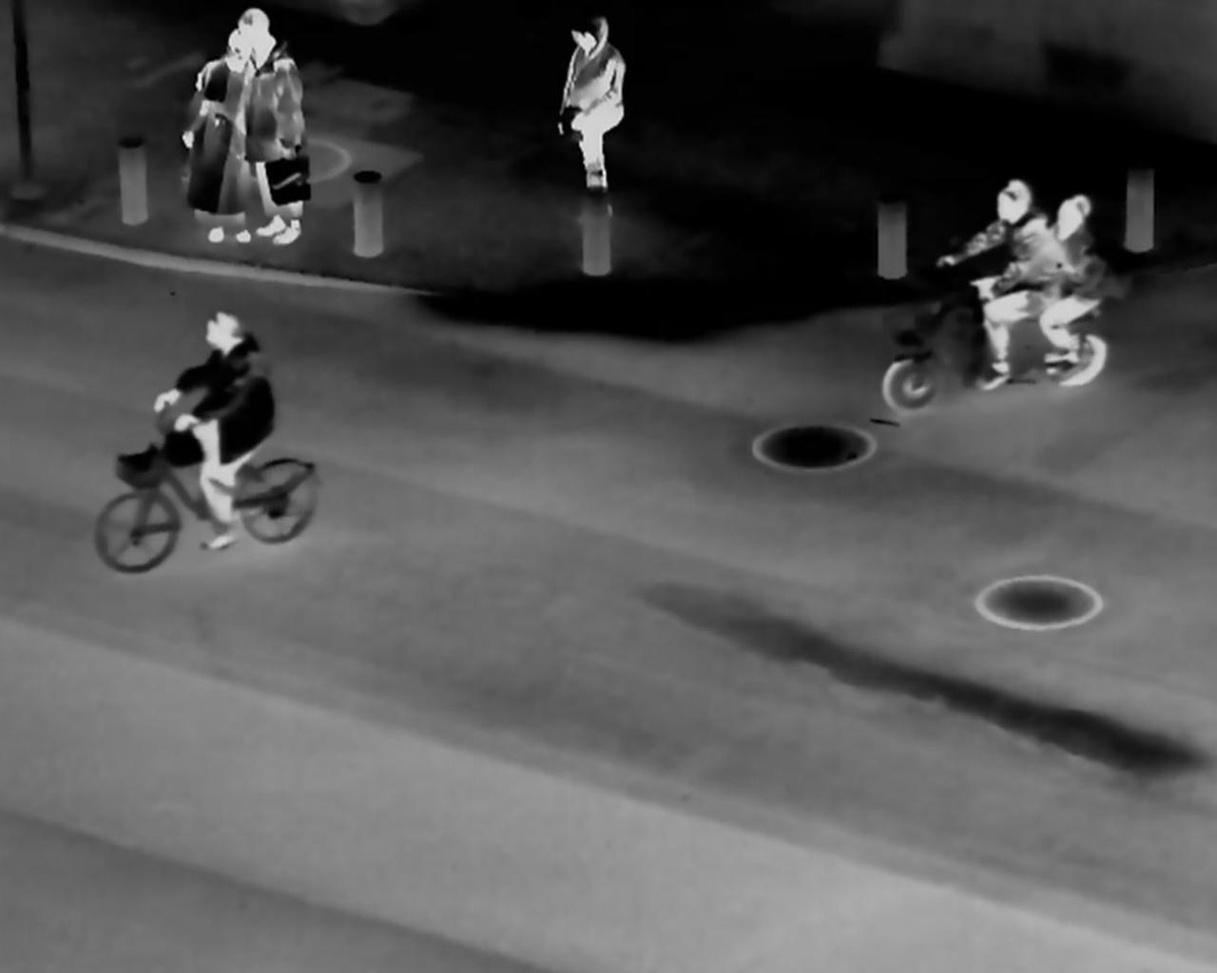person: (179, 311, 279, 546), (963, 166, 1060, 386), (1042, 186, 1137, 394), (234, 5, 314, 249), (553, 12, 637, 206), (189, 27, 262, 234)
